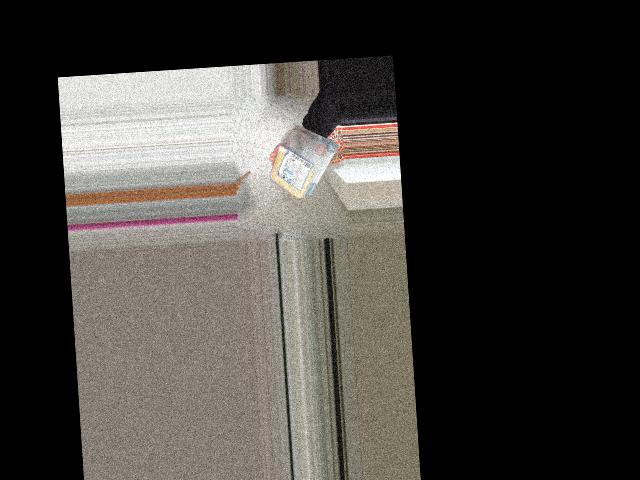cheese: (268, 130, 331, 199)
